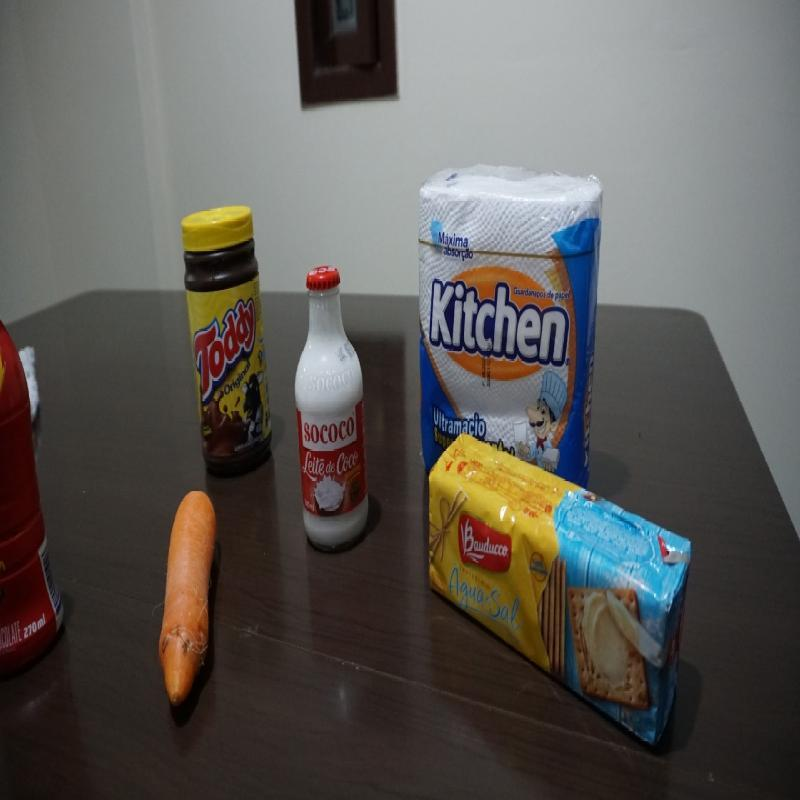Carrot: (154, 487, 218, 717)
Chocolate Milk: (0, 302, 66, 682)
Chocolate Powder: (180, 203, 274, 478)
Coconut Milk: (294, 263, 370, 553)
Cracker: (426, 431, 694, 751)
Napkin: (415, 164, 604, 447)
